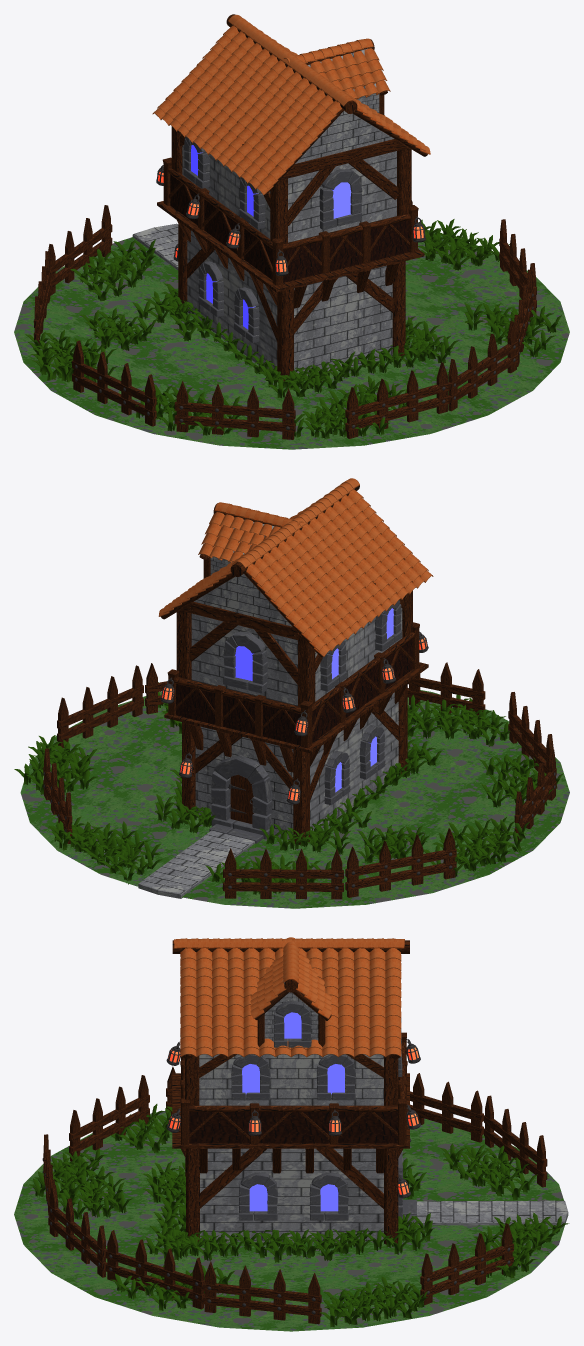
File: fantasy house.glb
3 views of the same model, one above another, from view 1: azimuth 30°, elevation 25°; view 2: azimuth 150°, elevation 25°; view 3: azimuth 270°, elevation 25° (orthographic).
Parts seen in each view (by area): view 1: pDisc1, polySurface141, polySurface145, polySurface110, polySurface824, polySurface828, polySurface823, polySurface827, polySurface821, polySurface136, polySurface114, polySurface825 (+37 smaller); view 2: pDisc1, polySurface141, polySurface145, polySurface110, polySurface821, pCube148, polySurface822, polySurface825, polySurface828, polySurface823, polySurface824, polySurface715 (+41 smaller); view 3: pDisc1, polySurface141, polySurface145, polySurface110, polySurface825, pCube148, polySurface815, polySurface826, polySurface824, polySurface822, polySurface821, polySurface827 (+43 smaller).
Boxes of the visible parts, left/top/right/bottom form: pDisc1: left=14, top=230, right=569, bottom=449; polySurface141: left=157, top=201, right=424, bottom=375; polySurface145: left=182, top=111, right=396, bottom=242; polySurface110: left=170, top=174, right=409, bottom=282; polySurface824: left=174, top=381, right=295, bottom=439; polySurface828: left=345, top=362, right=448, bottom=438; polySurface823: left=72, top=340, right=156, bottom=426; polySurface827: left=448, top=321, right=517, bottom=411; polySurface821: left=48, top=205, right=112, bottom=295; polySurface136: left=275, top=139, right=410, bottom=179; polySurface114: left=277, top=288, right=293, bottom=381; polySurface825: left=499, top=219, right=536, bottom=313; pDisc1: left=20, top=688, right=569, bottom=908; polySurface141: left=164, top=662, right=428, bottom=839; polySurface145: left=191, top=574, right=402, bottom=705; polySurface110: left=176, top=639, right=412, bottom=745; polySurface821: left=223, top=848, right=343, bottom=899; pCube148: left=138, top=830, right=254, bottom=898; polySurface822: left=345, top=828, right=456, bottom=897; polySurface825: left=57, top=665, right=143, bottom=748; polySurface828: left=407, top=662, right=485, bottom=717; polySurface823: left=514, top=749, right=556, bottom=841; polySurface824: left=508, top=692, right=553, bottom=773; polySurface715: left=178, top=601, right=310, bottom=639; pDisc1: left=14, top=1111, right=568, bottom=1331; polySurface141: left=172, top=1073, right=409, bottom=1241; polySurface145: left=199, top=989, right=383, bottom=1105; polySurface110: left=189, top=1112, right=397, bottom=1143; polySurface825: left=202, top=1261, right=321, bottom=1324; pCube148: left=416, top=1200, right=568, bottom=1225; polySurface815: left=420, top=1223, right=513, bottom=1305; polySurface826: left=105, top=1230, right=204, bottom=1309; polySurface824: left=69, top=1075, right=149, bottom=1161; polySurface822: left=410, top=1073, right=483, bottom=1142; polySurface821: left=484, top=1095, right=547, bottom=1187; polySurface827: left=48, top=1185, right=106, bottom=1277.
Bounding box in the file's own units: 3.45 × 1.94 × 3.46.
Materials: 11 (7 with a texture image).
